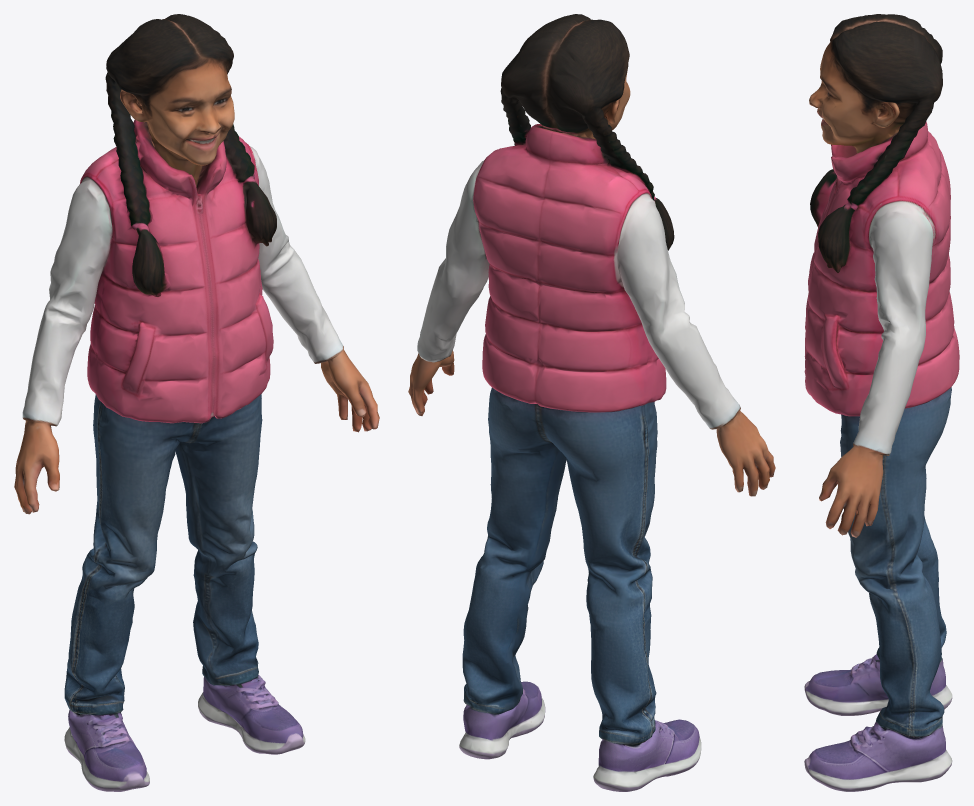
File: kid_girl.glb
The picture shows the model from 3 angles, left to right: view 1: azimuth 30°, elevation 25°; view 2: azimuth 150°, elevation 25°; view 3: azimuth 270°, elevation 25°; orthographic projection.
Parts seen in each view (by area): view 1: tripo_node_c258779a-c7fb-4538-b5d9-7ed0b4807417; view 2: tripo_node_c258779a-c7fb-4538-b5d9-7ed0b4807417; view 3: tripo_node_c258779a-c7fb-4538-b5d9-7ed0b4807417.
Part boxes in pixels (x1=…): tripo_node_c258779a-c7fb-4538-b5d9-7ed0b4807417: x1=14, y1=14, x2=379, y2=791; tripo_node_c258779a-c7fb-4538-b5d9-7ed0b4807417: x1=408, y1=14, x2=775, y2=791; tripo_node_c258779a-c7fb-4538-b5d9-7ed0b4807417: x1=804, y1=14, x2=959, y2=791.
Bounding box in the file's own units: 0.5102 × 1 × 0.1945.
Materials: 1 (1 with a texture image).
